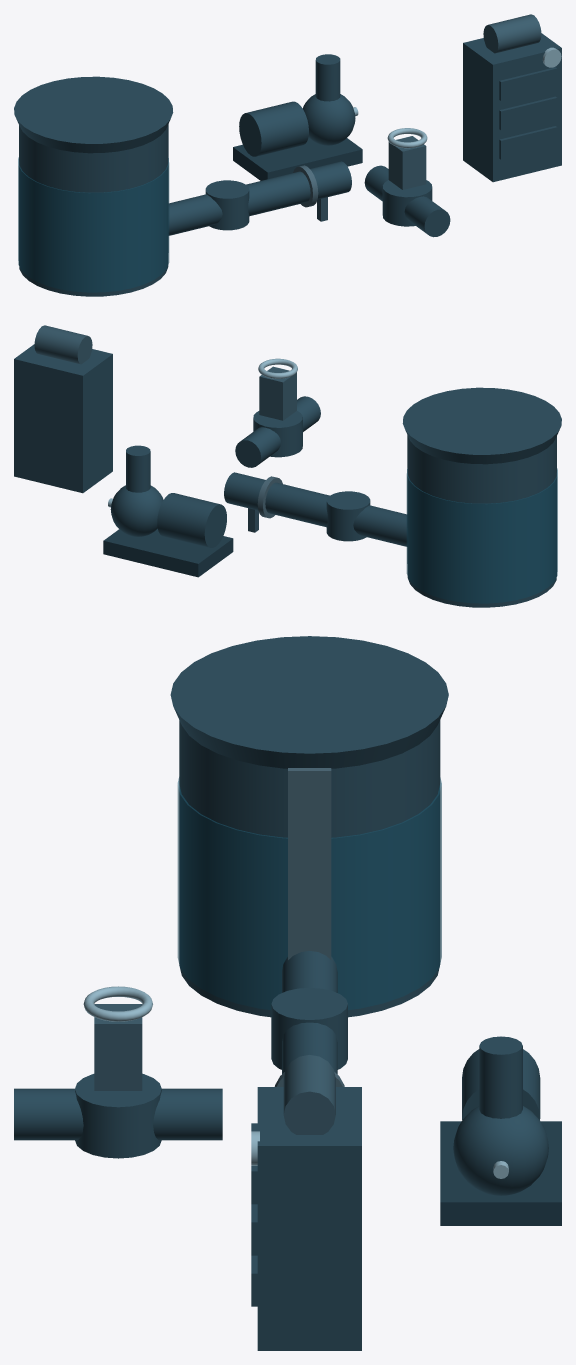
The model's file is ulsan-reservoir-equipment.gltf.
The picture shows the model from 3 angles, top to bottom: view 1: azimuth 30°, elevation 25°; view 2: azimuth 150°, elevation 25°; view 3: azimuth 270°, elevation 25°; orthographic projection. The views are drawn at different scales.
Parts seen in each view (by area): view 1: 저수조_본체, 저수조_수위, 저수조_커버_상태표시, 여과설비_하우징, 관로_본체, 펌프_베이스, 전동기_상태표시, 임펠러_케이싱, 밸브_관로, 유량계_상태표시, 액추에이터, 흡입덕트 (+7 smaller); view 2: 저수조_본체, 저수조_수위, 여과설비_하우징, 저수조_커버_상태표시, 관로_본체, 펌프_베이스, 전동기_상태표시, 임펠러_케이싱, 밸브_관로, 유량계_상태표시, 흡입덕트, 액추에이터 (+4 smaller); view 3: 저수조_본체, 저수조_수위, 저수조_커버_상태표시, 여과설비_하우징, 점검사다리, 밸브_관로, 펌프_베이스, 임펠러_케이싱, 밸브_바디_상태표시, 관로_본체, 흡입덕트, 액추에이터 (+4 smaller).
Part boxes in pixels (x1,y1,x2,y2): 저수조_본체: (19, 125, 168, 296); 저수조_수위: (18, 157, 169, 292); 저수조_커버_상태표시: (14, 76, 173, 153); 여과설비_하우징: (463, 33, 561, 182); 관로_본체: (168, 161, 351, 235); 펌프_베이스: (233, 137, 362, 180); 전동기_상태표시: (239, 101, 308, 156); 임펠러_케이싱: (302, 94, 355, 145); 밸브_관로: (364, 165, 450, 237); 유량계_상태표시: (205, 180, 249, 230); 액추에이터: (388, 136, 426, 189); 흡입덕트: (483, 14, 541, 53); 저수조_본체: (407, 436, 556, 607); 저수조_수위: (406, 468, 557, 603); 여과설비_하우징: (14, 344, 112, 493); 저수조_커버_상태표시: (402, 387, 561, 464); 관로_본체: (224, 472, 407, 546); 펌프_베이스: (103, 528, 233, 577); 전동기_상태표시: (157, 493, 226, 547); 임펠러_케이싱: (110, 485, 163, 536); 밸브_관로: (235, 396, 320, 467); 유량계_상태표시: (326, 491, 370, 541); 흡입덕트: (34, 325, 92, 364); 액추에이터: (259, 366, 296, 420); 저수조_본체: (179, 720, 440, 1017); 저수조_수위: (177, 777, 441, 1009); 저수조_커버_상태표시: (170, 636, 448, 768); 여과설비_하우징: (257, 1087, 361, 1350); 점검사다리: (288, 768, 331, 959); 밸브_관로: (14, 1088, 222, 1140); 펌프_베이스: (440, 1121, 561, 1225); 임펠러_케이싱: (453, 1106, 548, 1195); 밸브_바디_상태표시: (75, 1073, 161, 1158); 관로_본체: (282, 951, 337, 1073); 흡입덕트: (283, 1055, 335, 1134); 액추에이터: (94, 1004, 142, 1090).
Size of the model in its own units: 12.1 by 3.65 by 6.3.
